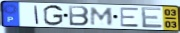B: (67, 5, 90, 27)
E: (140, 6, 164, 29), (119, 7, 141, 28)
G: (43, 4, 65, 27)
I: (33, 5, 40, 25)
M: (89, 7, 114, 27)
